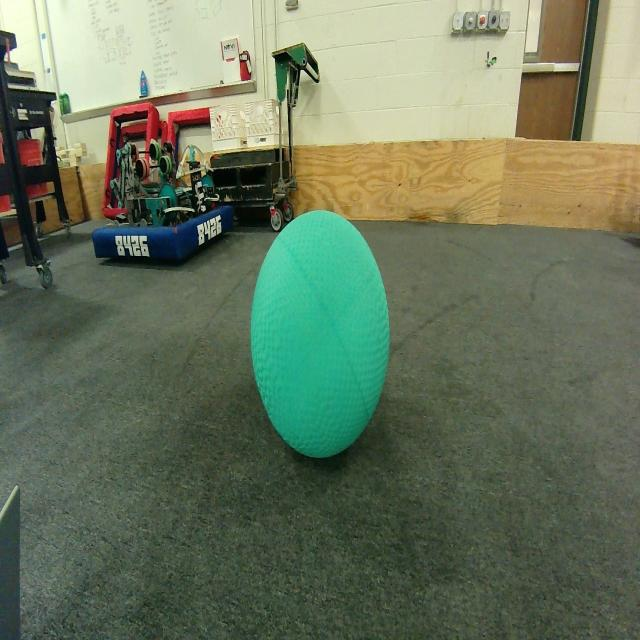algae: (253, 208, 390, 467)
